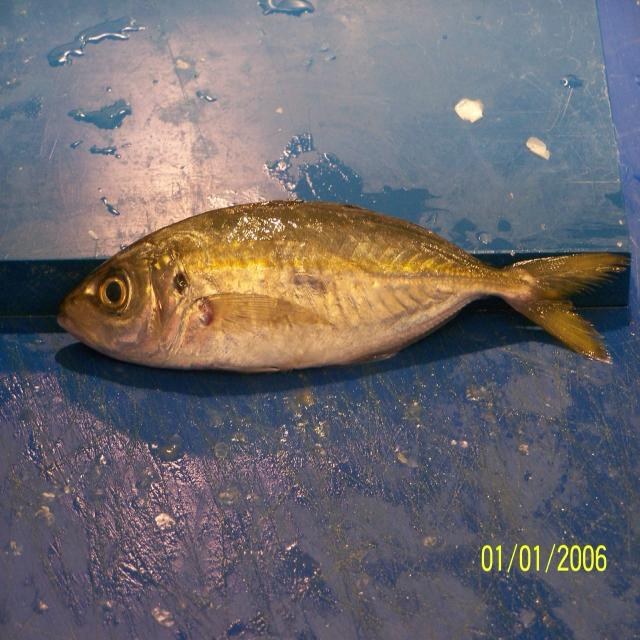Hourse-Mackerel-istavrit-: (56, 201, 628, 375)
